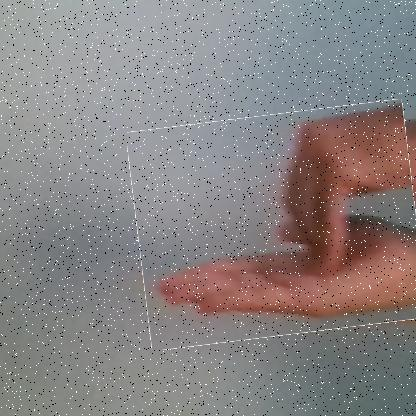Z: (131, 107, 416, 344)
